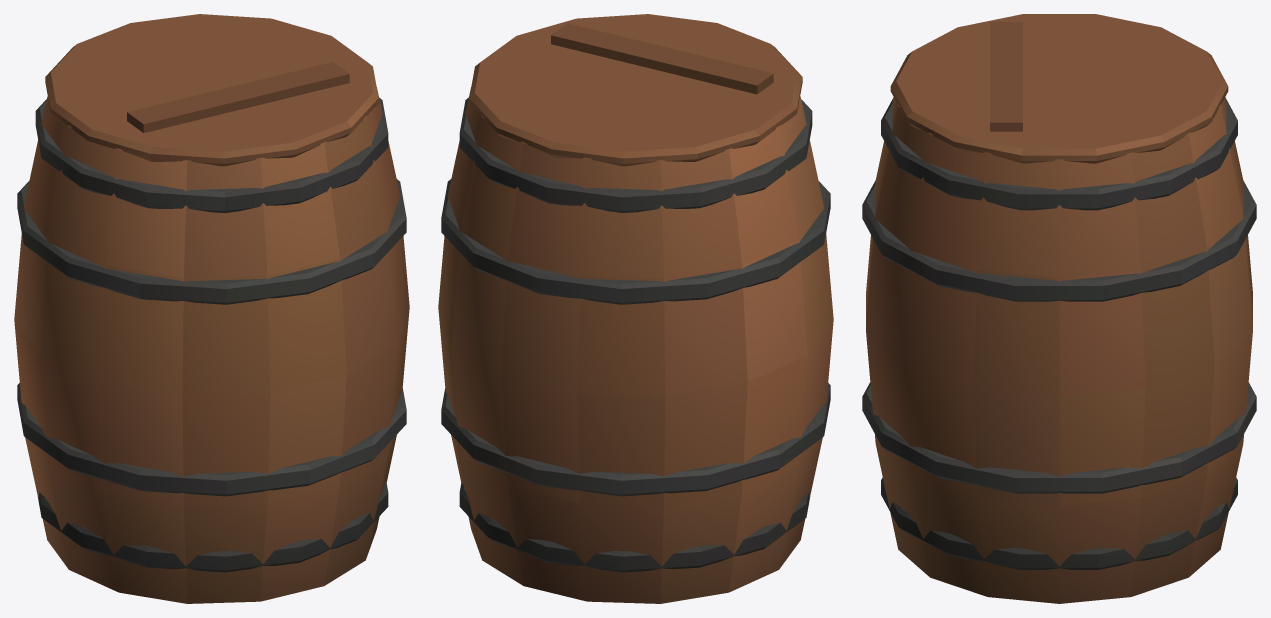
File: barrel.glb
The picture shows the model from 3 angles, left to right: view 1: azimuth 30°, elevation 25°; view 2: azimuth 150°, elevation 25°; view 3: azimuth 270°, elevation 25°; orthographic projection.
Visible parts, largest first — view 1: barrel; view 2: barrel; view 3: barrel.
Part boxes in pixels (<box>): barrel: <box>14,14,409,603</box>; barrel: <box>438,14,833,603</box>; barrel: <box>862,14,1256,603</box>.
Bounding box in the file's own units: 0.6001 × 0.77 × 0.596.
